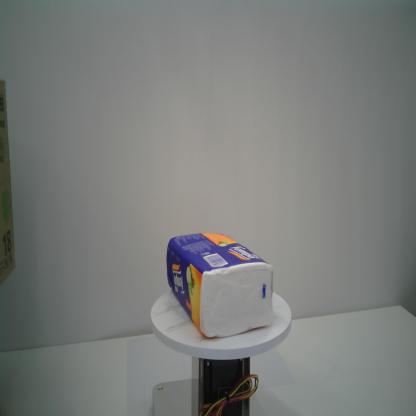Tissue: (166, 232, 274, 339)
